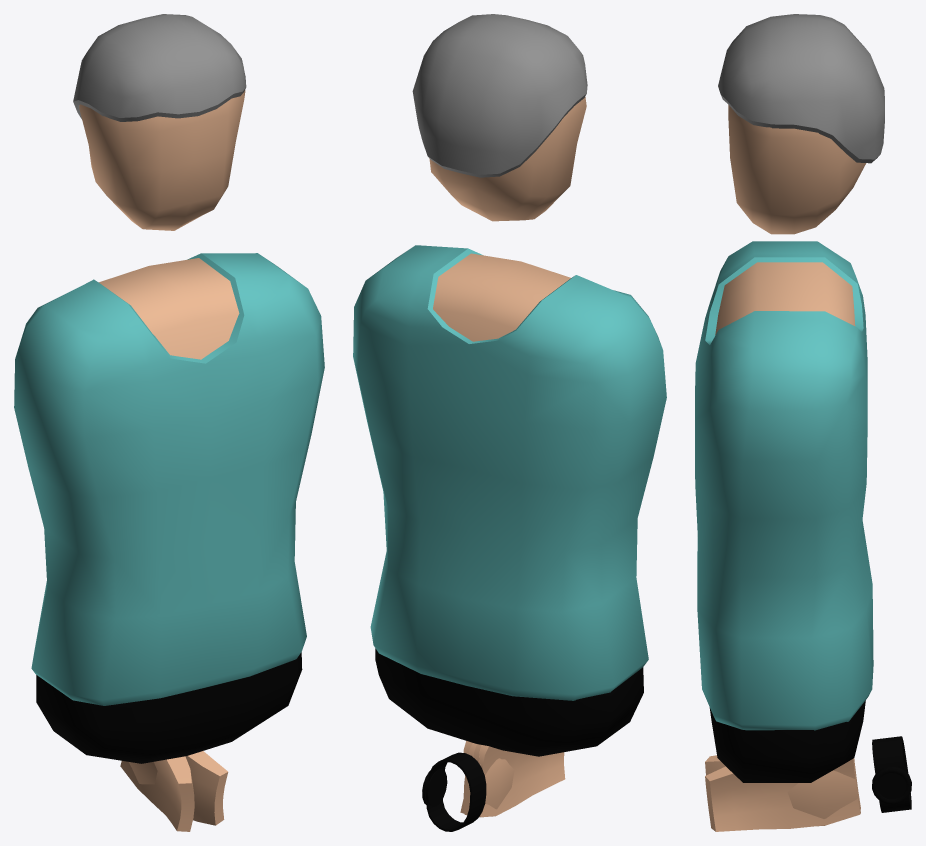
The model's file is MaleAvatar.fbx.
3 renders of one model, left to right at view 1: azimuth 30°, elevation 25°; view 2: azimuth 150°, elevation 25°; view 3: azimuth 270°, elevation 25°, orthographic. The views are drawn at different scales.
Parts seen in each view (by area): view 1: Body1, Head1, Hair1, HandL, HandR; view 2: Body1, Hair1, Head1, HandL, Watch, HandR; view 3: Body1, Hair1, Head1, HandR, Watch, HandL.
Boxes of the visible parts, bbox=[...] form: Body1: bbox=[14, 253, 324, 763]; Head1: bbox=[79, 90, 245, 230]; Hair1: bbox=[73, 14, 246, 121]; HandL: bbox=[120, 756, 194, 831]; HandR: bbox=[129, 751, 228, 825]; Body1: bbox=[353, 245, 666, 756]; Hair1: bbox=[412, 14, 587, 177]; Head1: bbox=[429, 97, 586, 221]; HandL: bbox=[463, 743, 565, 817]; Watch: bbox=[422, 752, 486, 831]; HandR: bbox=[460, 741, 514, 816]; Body1: bbox=[695, 241, 873, 782]; Hair1: bbox=[718, 14, 884, 163]; Head1: bbox=[728, 105, 866, 234]; HandR: bbox=[705, 758, 860, 831]; Watch: bbox=[872, 736, 911, 812]; HandL: bbox=[705, 755, 860, 826].
Bounding box in the file's own units: 46.46 × 125 × 30.88.
